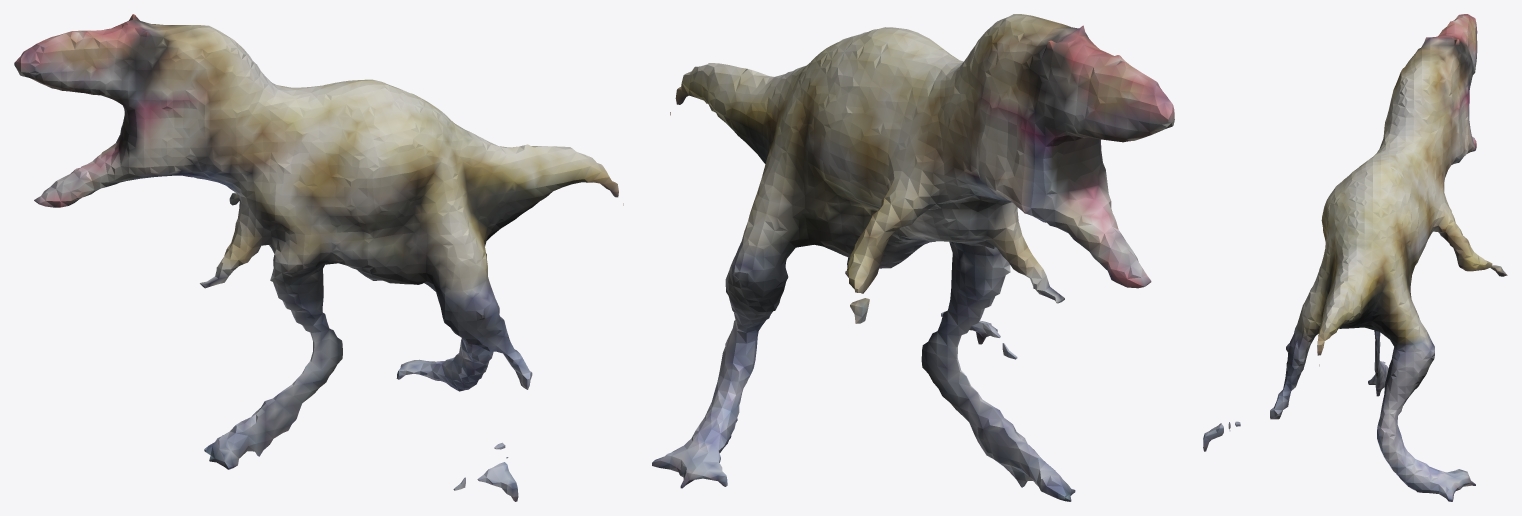
Rendered from model_raw.glb.
3 renders of one model, left to right at view 1: azimuth 30°, elevation 25°; view 2: azimuth 150°, elevation 25°; view 3: azimuth 270°, elevation 25°, orthographic. The views are drawn at different scales.
Parts seen in each view (by area): view 1: geometry_0; view 2: geometry_0; view 3: geometry_0.
Boxes of the visible parts, x1,y1,x2,y2 form: geometry_0: (14,14,623,501); geometry_0: (652,14,1174,501); geometry_0: (1203,14,1507,501).
Size of the model in its own units: 1.84 by 1.49 by 1.22.
